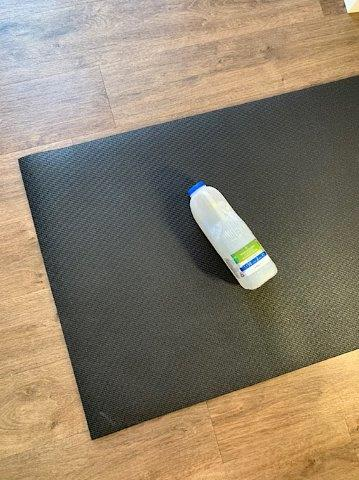botolplastik: (189, 181, 278, 287)
